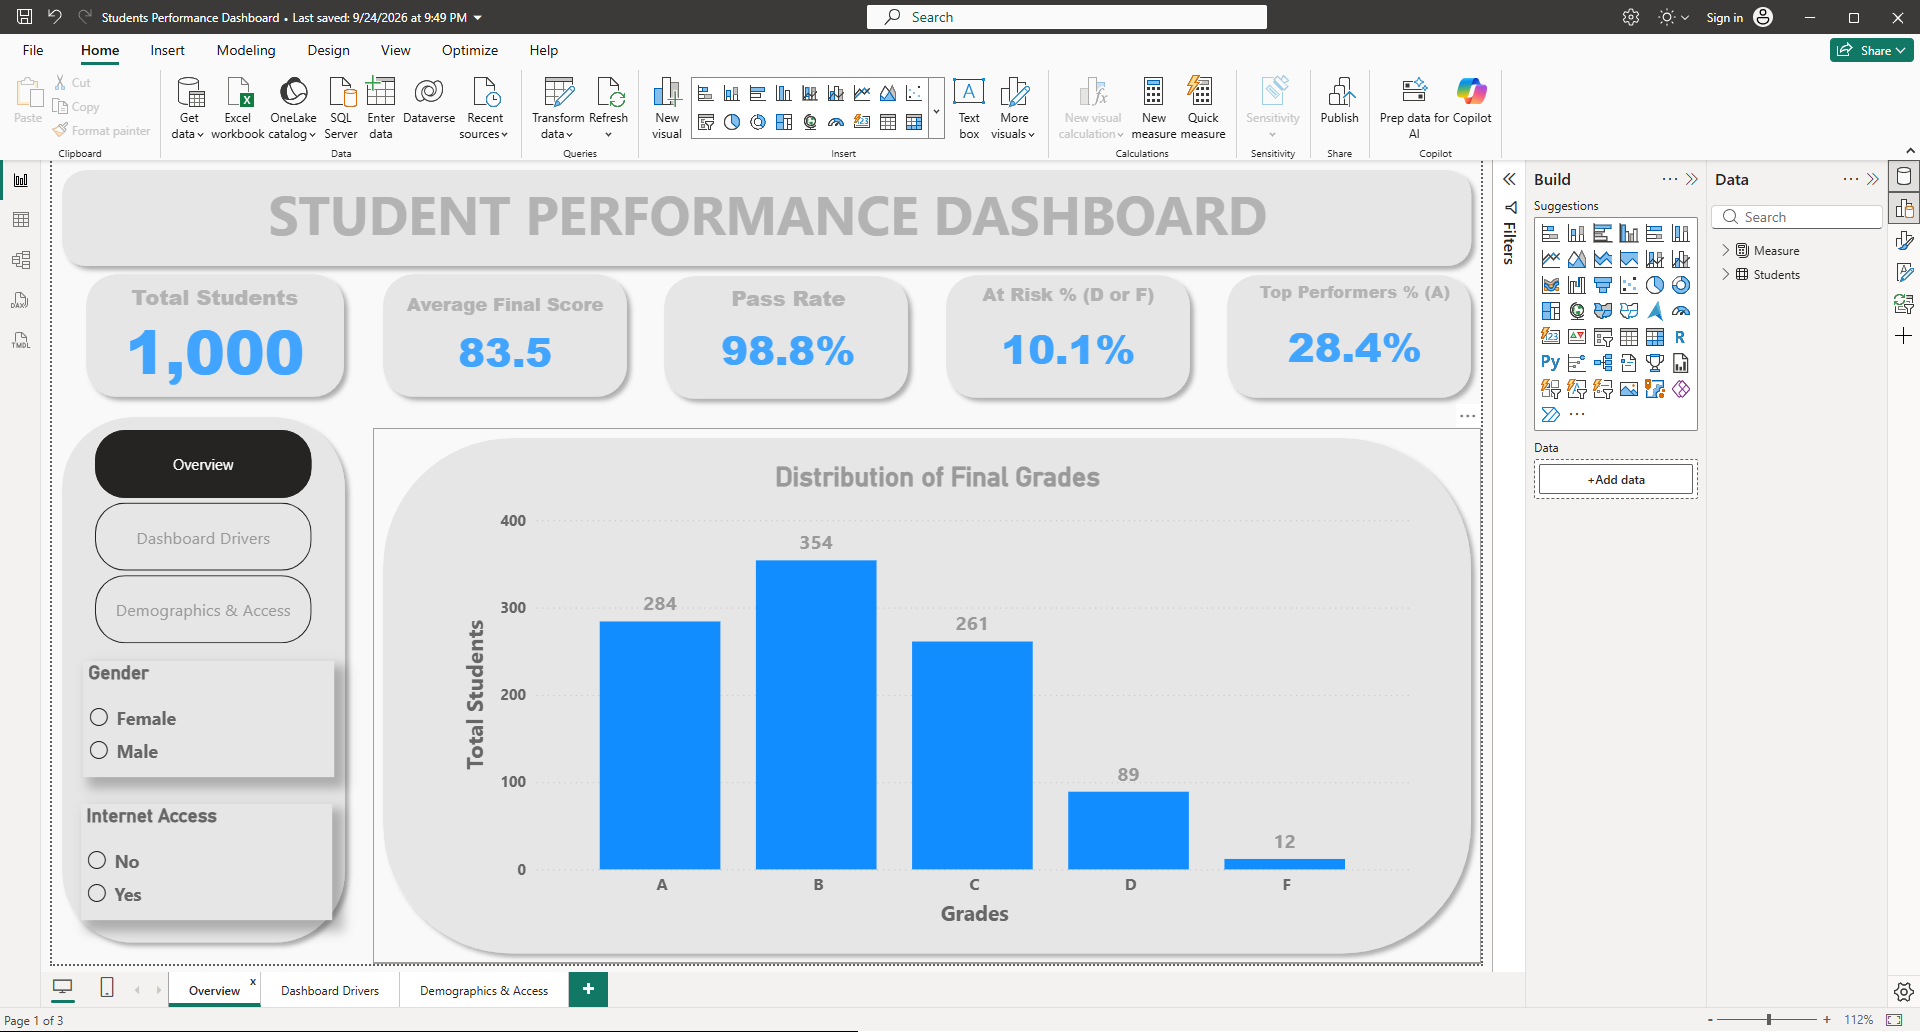

What the dashboard file says about the page in this screenshot:
{"tool":"powerbi","page":{"name":"Overview","canvas":[1280,720],"ordinal":0},"visuals":[{"type":"shape","box":[0,0,1280,103.9],"z":0},{"type":"textbox","box":[126.7,10.3,1027.7,84.5],"z":1000},{"type":"shape","box":[21.6,93.4,248.9,127.9],"z":2000,"group":"g2"},{"type":"group","id":"g1","title":"Group 2","box":[287.2,93.4,235.9,127.8],"z":2000},{"type":"group","id":"g2","title":"Group 3","box":[21.6,93.4,249.7,127.8],"z":3000},{"type":"shape","box":[287.2,93.4,236.4,127.9],"z":3000,"group":"g1"},{"type":"shape","box":[0,221.2,271.3,488.6],"z":4000},{"type":"shape","box":[287.7,239.8,992.3,479.6],"z":4000,"group":"g6"},{"type":"group","id":"g3","title":"Group 1","box":[539.1,94.8,236.4,127.9],"z":5000},{"type":"card","title":"Average Final Score","fields":{"Values":["Measure.Average Final Score"]},"box":[311.2,117.4,188.4,90.2],"z":5000,"group":"g1"},{"type":"group","id":"g4","title":"Group 4","box":[791.4,93.6,236.4,127.9],"z":6000},{"type":"group","id":"g5","title":"Group 5","box":[1043.6,93.6,236.4,127.9],"z":7000},{"type":"shape","box":[1043.6,93.6,236.4,127.9],"z":8000,"group":"g5"},{"type":"listSlicer","title":"Gender","fields":{"Values":["Students.gender"]},"box":[27.4,448.7,224.9,103.9],"z":8000},{"type":"shape","box":[791.4,93.6,236.4,127.9],"z":9000,"group":"g4"},{"type":"columnChart","title":"Distribution of Final Grades","fields":{"Category":["Students.final_grade"],"Y":["Measure.Total students"]},"box":[363.7,269.4,859.2,421.8],"z":9000,"group":"g6"},{"type":"listSlicer","title":"Internet Access","fields":{"Values":["Students.internet_access"]},"box":[26.3,576.6,224.9,103.9],"z":9000},{"type":"group","id":"g6","title":"Group 6","box":[287.7,239.8,992.3,479.6],"z":10000},{"type":"shape","box":[539.1,94.8,236.4,127.9],"z":11000,"group":"g3"},{"type":"pageNavigator","box":[38.8,242.1,194.1,193],"z":11000},{"type":"card","title":"Pass Rate","fields":{"Values":["Measure.% Pass Rate"]},"box":[570.7,110.1,177.9,96.3],"z":12000,"group":"g3"},{"type":"card","title":"Total Students","fields":{"Values":["Measure.Total students"]},"box":[44.4,109.4,202.1,97.1],"z":13500,"group":"g2"},{"type":"card","title":"At Risk % (D or F)","fields":{"Values":["Measure.At-Risk %"]},"box":[815.2,108.1,188.8,102.2],"z":14000,"group":"g4"},{"type":"card","title":"Top Performers % (A)","fields":{"Values":["Measure.% Top Performer"]},"box":[1073.5,107.1,187.8,102.2],"z":15000,"group":"g5"}]}

Visuals, with their boxes on the page's 1280x720 design canvas (x1, y1, x2, y2). These are canvas units, not pixel positions in the 1920x1032 screenshot, which may show the page scaled, cropped or inside an application window:
shape: region(0, 0, 1280, 104)
textbox: region(127, 10, 1154, 95)
shape: region(22, 93, 270, 221)
"Group 2" group: region(287, 93, 523, 221)
"Group 3" group: region(22, 93, 271, 221)
shape: region(287, 93, 524, 221)
shape: region(0, 221, 271, 710)
shape: region(288, 240, 1280, 719)
"Group 1" group: region(539, 95, 776, 223)
"Average Final Score" card: region(311, 117, 500, 208)
"Group 4" group: region(791, 94, 1028, 222)
"Group 5" group: region(1044, 94, 1280, 222)
shape: region(1044, 94, 1280, 222)
"Gender" listSlicer: region(27, 449, 252, 553)
shape: region(791, 94, 1028, 222)
"Distribution of Final Grades" columnChart: region(364, 269, 1223, 691)
"Internet Access" listSlicer: region(26, 577, 251, 680)
"Group 6" group: region(288, 240, 1280, 719)
shape: region(539, 95, 776, 223)
pageNavigator: region(39, 242, 233, 435)
"Pass Rate" card: region(571, 110, 749, 206)
"Total Students" card: region(44, 109, 246, 206)
"At Risk % (D or F)" card: region(815, 108, 1004, 210)
"Top Performers % (A)" card: region(1074, 107, 1261, 209)
